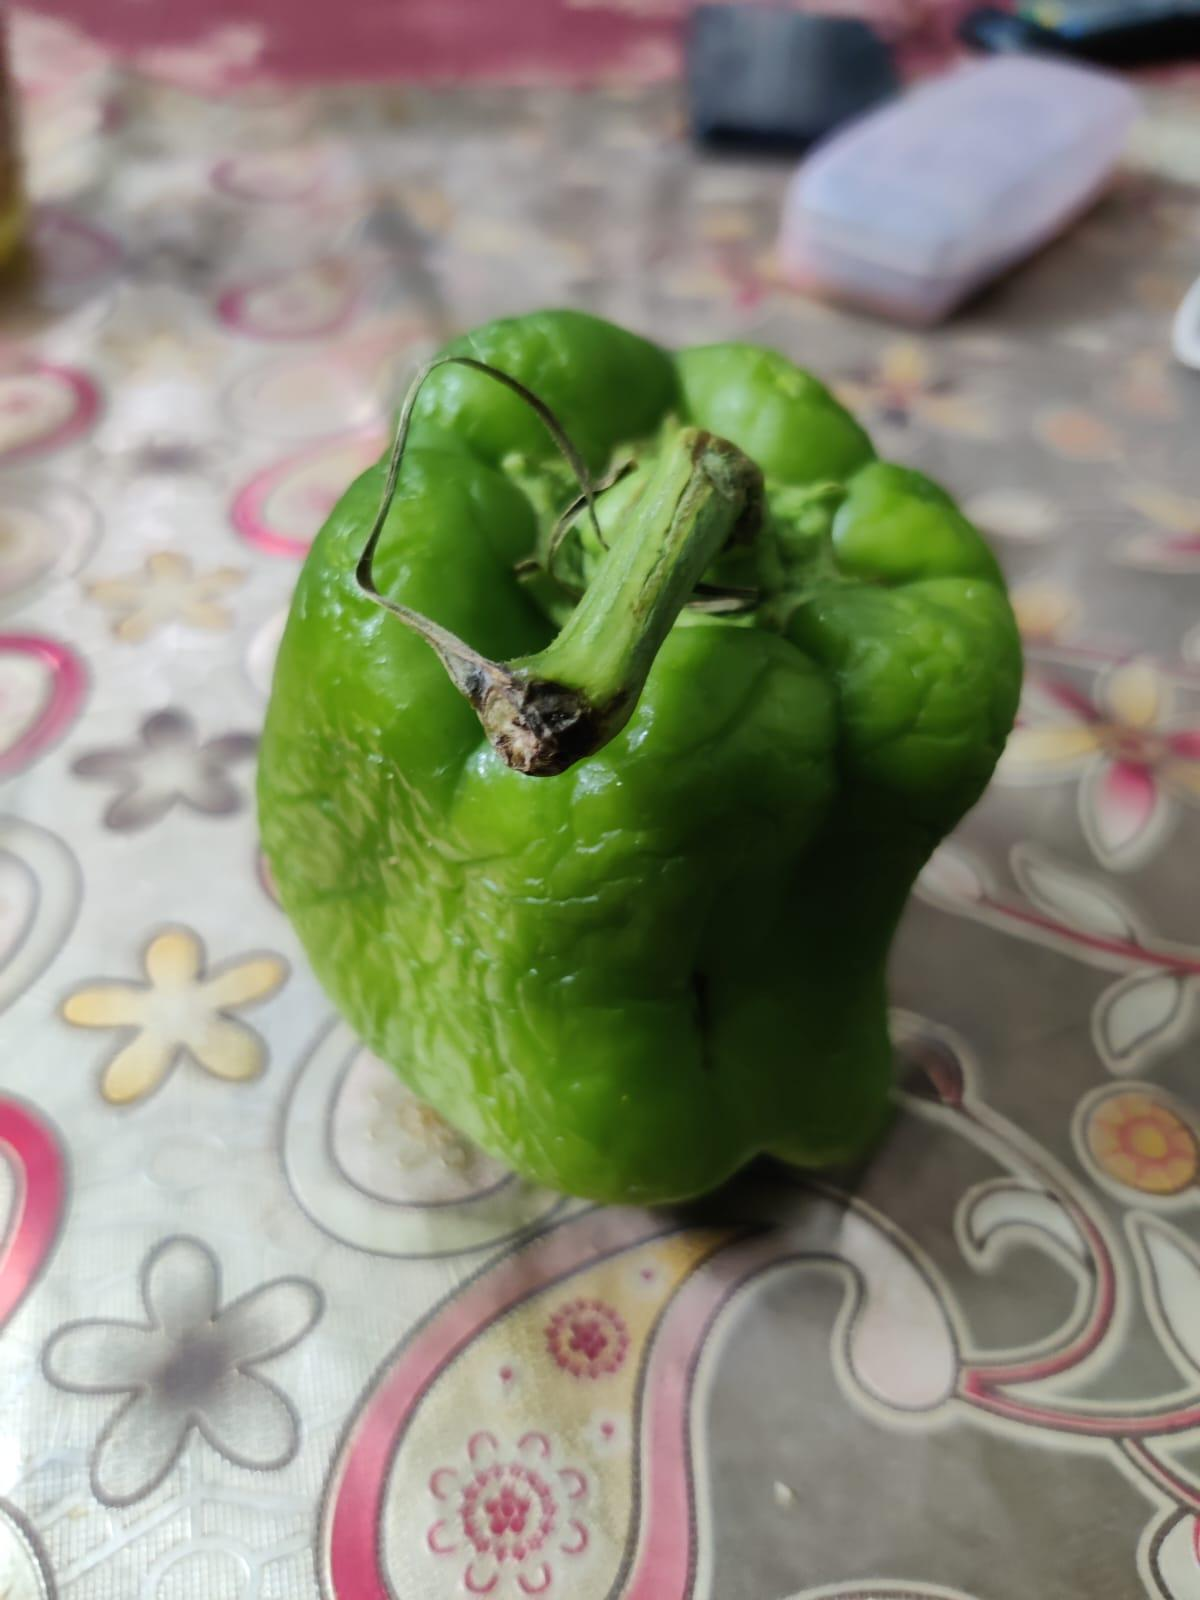non-mango: (265, 306, 1010, 1208)
